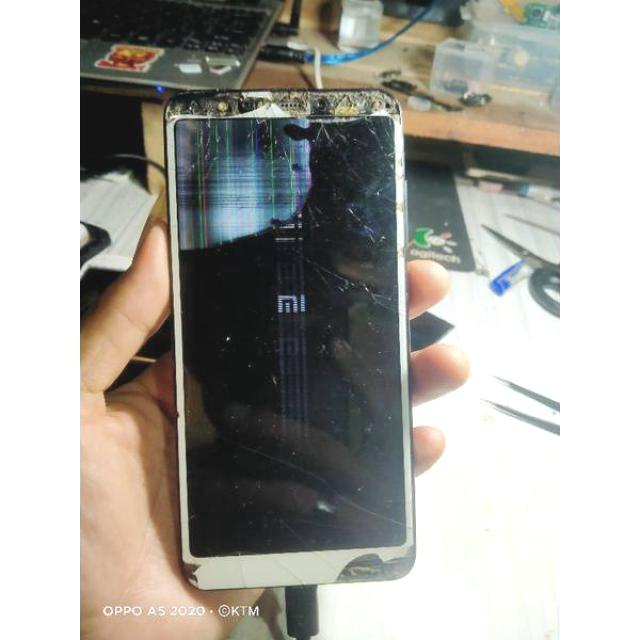phone: (162, 96, 418, 578)
